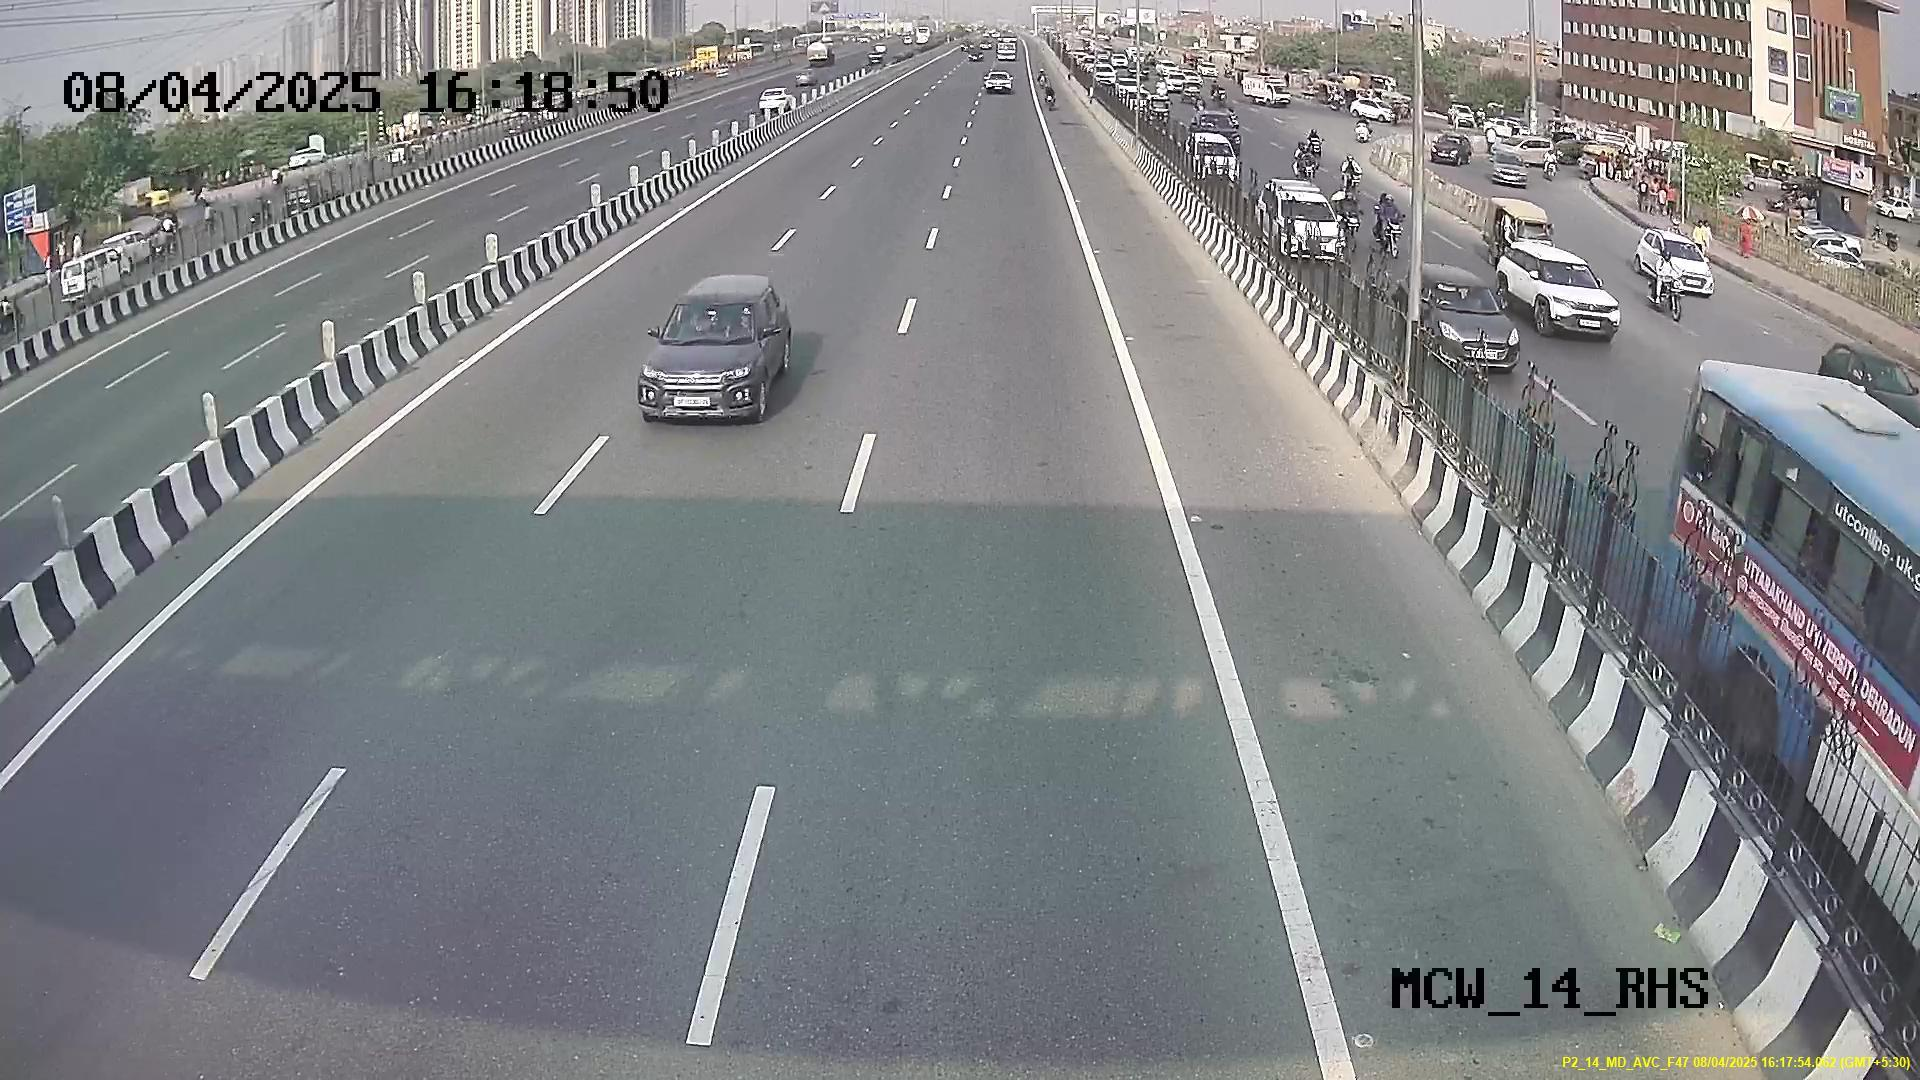car: (632, 286, 785, 422)
